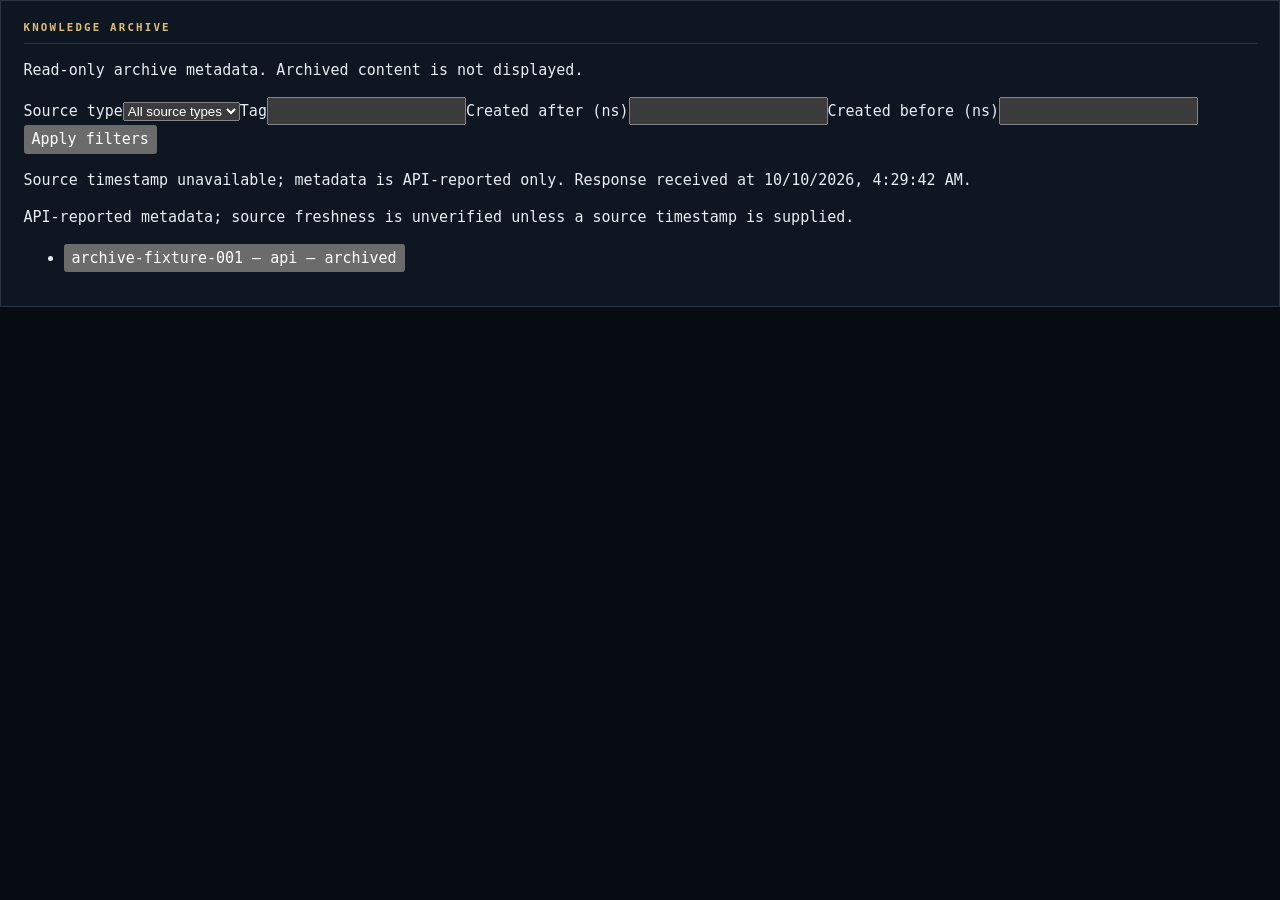
Test: KNOW-ARCHIVE-UI-001 independent acceptance › loads detail and runs using GET only and displays allowlisted metadata
Click the button with aria-label "View ingestion archive-fixture-001" at x=234, y=258, box top-left (64, 244), bottom-right (405, 272)
(page scrolled)
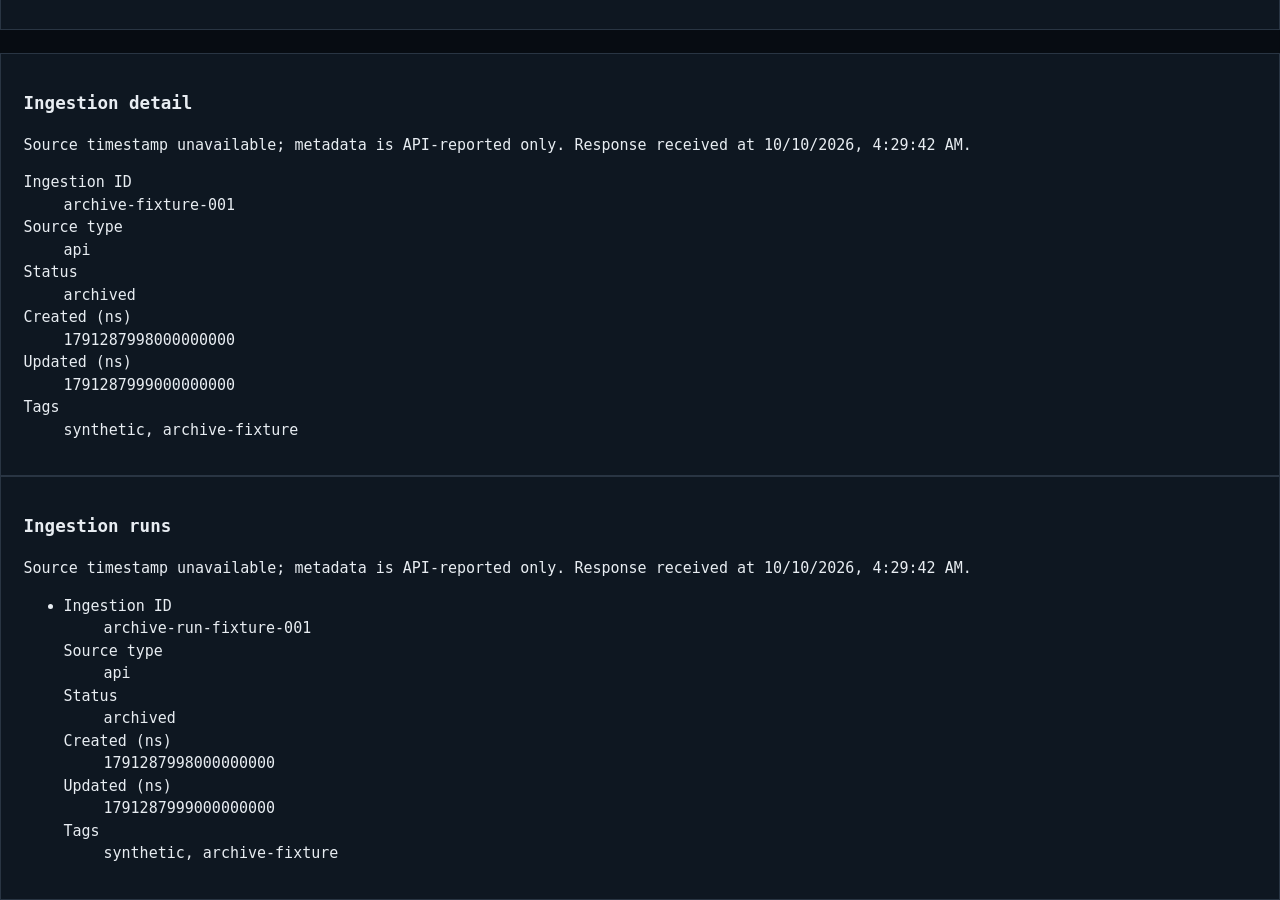
Result: the heading "Ingestion detail" is shown at top-left (24, 93), bottom-right (192, 113)
Result: the heading "Ingestion runs" is shown at top-left (24, 516), bottom-right (171, 536)
Result: the text "archive-fixture-001" is shown at top-left (64, 196), bottom-right (235, 214)
